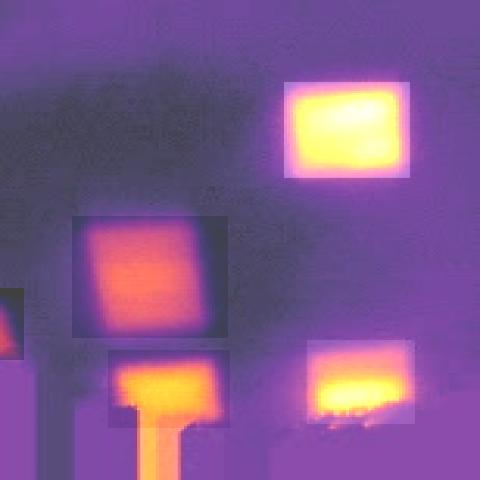fault: (72, 216, 228, 338), (284, 82, 410, 178), (108, 350, 230, 428), (307, 340, 415, 424), (0, 288, 24, 360)
